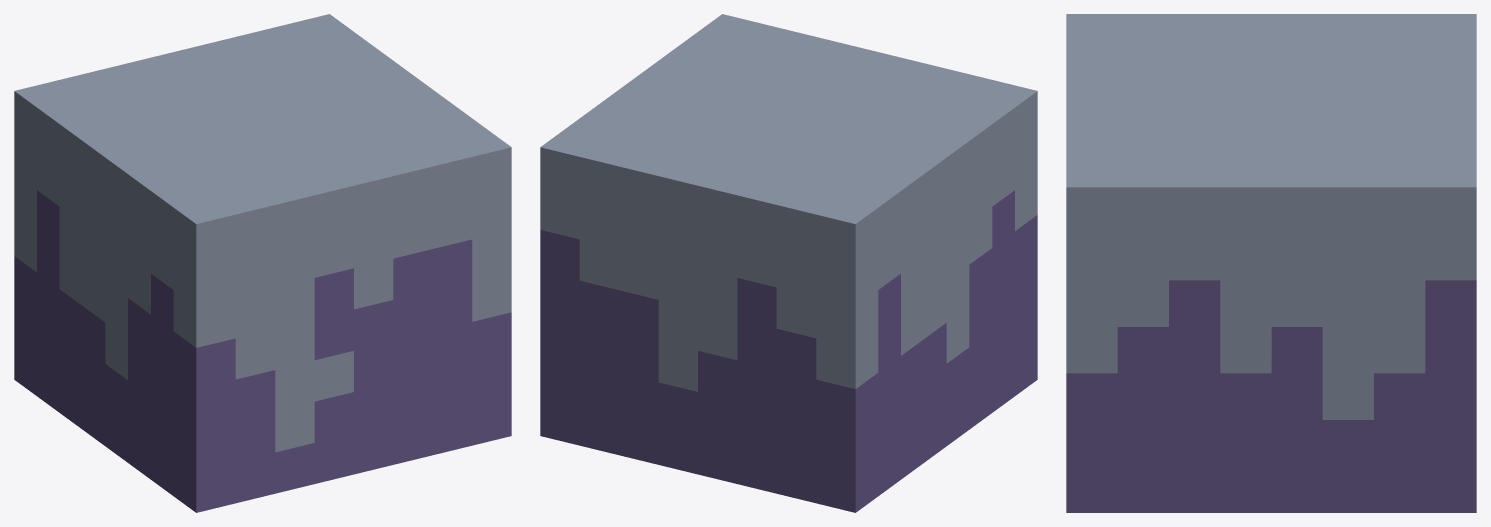
The model's file is grass_0.gltf.
The picture shows the model from 3 angles, left to right: view 1: azimuth 30°, elevation 25°; view 2: azimuth 150°, elevation 25°; view 3: azimuth 270°, elevation 25°; orthographic projection. The views are drawn at different scales.
Visible parts, largest first — view 1: unnamed; view 2: unnamed; view 3: unnamed.
Boxes of the visible parts, x1=… form: unnamed: x1=14, y1=14, x2=511, y2=512; unnamed: x1=540, y1=14, x2=1037, y2=512; unnamed: x1=1066, y1=14, x2=1476, y2=512.
Bounding box in the file's own units: 8 × 7 × 8.
Materials: 2 (2 with a texture image).
